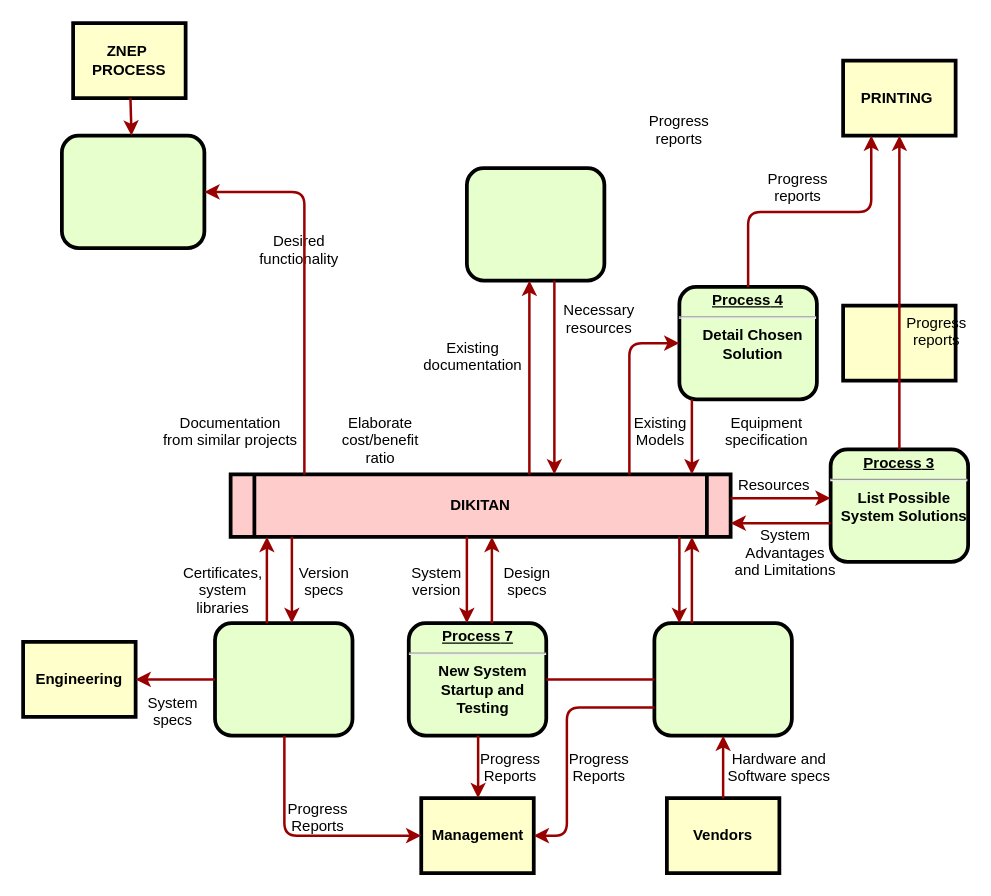
Some shapes in this 991 by 896 pixel diagram are drawn without their labels. The box of each missing label's shape, as (x1, y1, x2, y2) in pixels:
CUTTING MACFHINE: (841, 303, 957, 382)
Process 1 System Study Preparation: (59, 133, 206, 249)
Process 2 System Analysis: (464, 166, 606, 282)
Process 5 New System Design: (652, 621, 793, 737)
Process 6 New System Construction: (212, 621, 354, 737)
